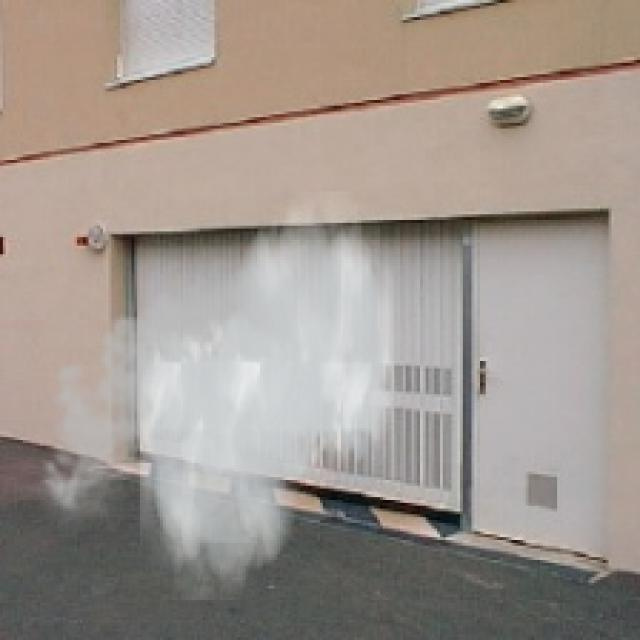smoke: (32, 191, 394, 600)
